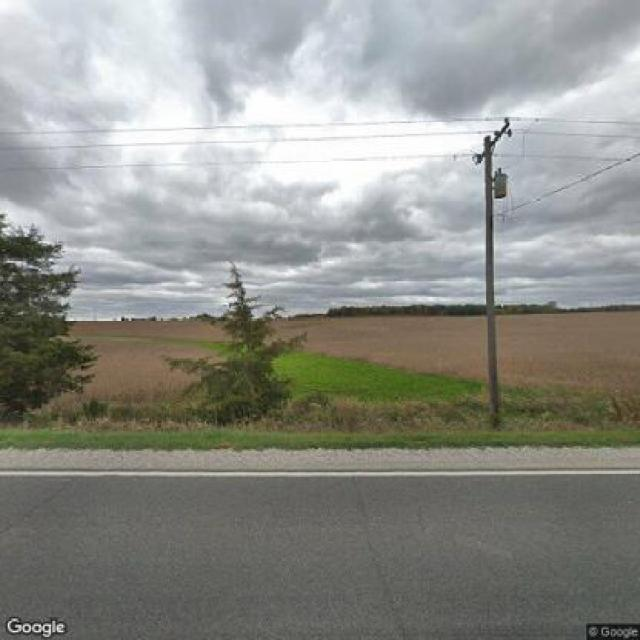pole: (463, 107, 528, 422)
